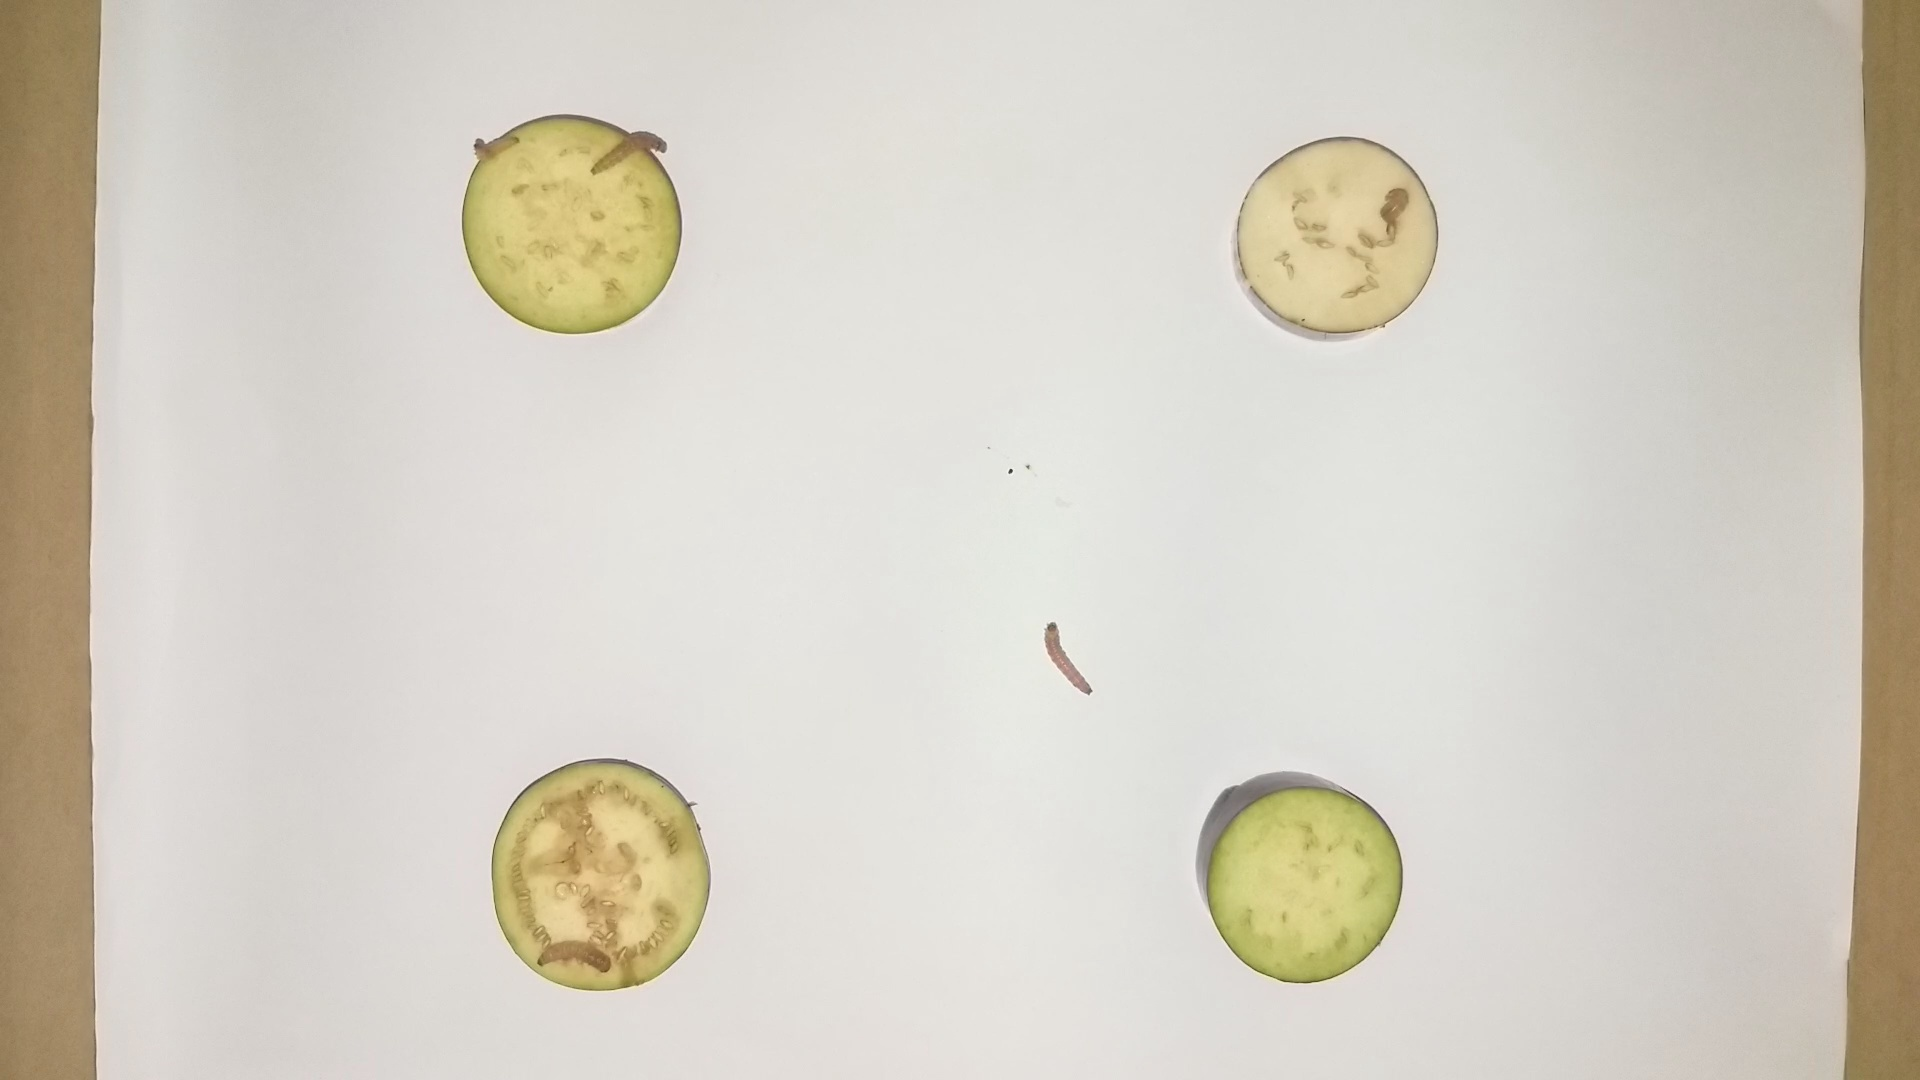efsb: (1036, 616, 1098, 705), (582, 124, 676, 175), (527, 934, 617, 982), (468, 131, 522, 165), (1375, 185, 1418, 225)
eggplant: (483, 750, 717, 1000), (459, 107, 686, 344), (1192, 760, 1412, 996), (1224, 125, 1451, 345)
